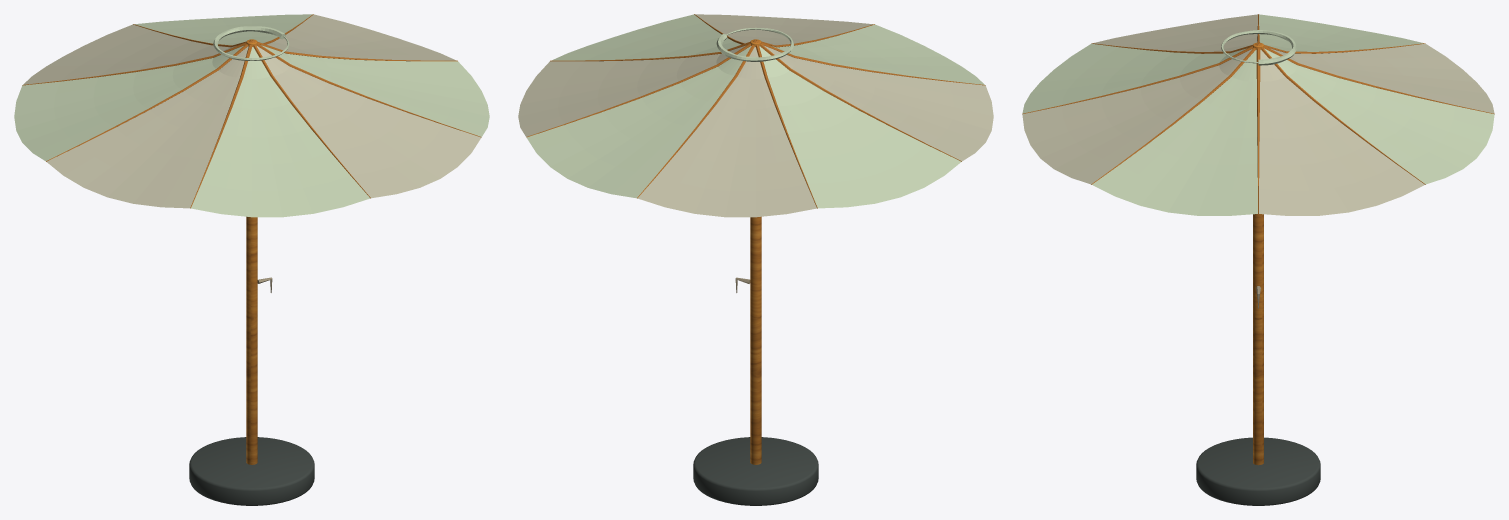
Rendered from patio-parasol.glb.
3 renders of one model, left to right at view 1: azimuth 30°, elevation 25°; view 2: azimuth 150°, elevation 25°; view 3: azimuth 270°, elevation 25°, orthographic.
Parts seen in each view (by area): view 1: patio-parasol; view 2: patio-parasol; view 3: patio-parasol.
Part boxes in pixels (x1,y1,x2,y2): patio-parasol: (14,14,489,505); patio-parasol: (518,14,993,505); patio-parasol: (1022,14,1494,505).
Size of the model in its own units: 2.4 by 2.45 by 2.4.
5 materials, 1 textured.
